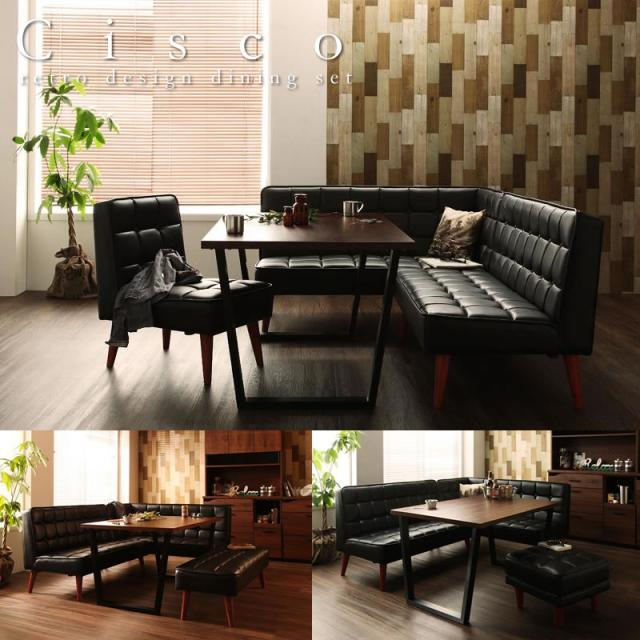vintage chair: (93, 188, 265, 391)
vintage desk: (204, 209, 423, 419), (398, 487, 562, 629), (80, 514, 223, 614)
vintage sofa: (267, 173, 604, 419), (330, 476, 574, 591), (18, 496, 228, 614)
